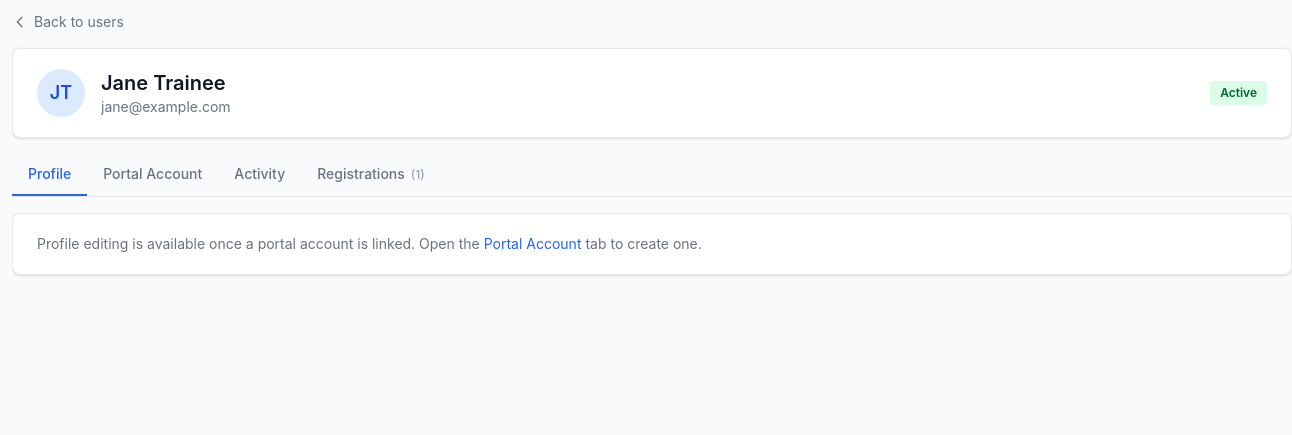
it: Trainings UserDetailPanel — 4-tab shell › when there is no portal account: Profile shows a prompt linking to Portal Account tab, and Portal tab shows the "Create portal account" notice
The width and height of the screenshot is (1292, 435).
Check: the heading "Jane Trainee" is shown, box x1=101 y1=69 x2=231 y2=97
Check: the text "Profile editing is available once a portal account is linked" is shown, box x1=37 y1=235 x2=480 y2=252
Click the 1st button "Portal Account" at (153, 175), box x1=87 y1=154 x2=218 y2=196
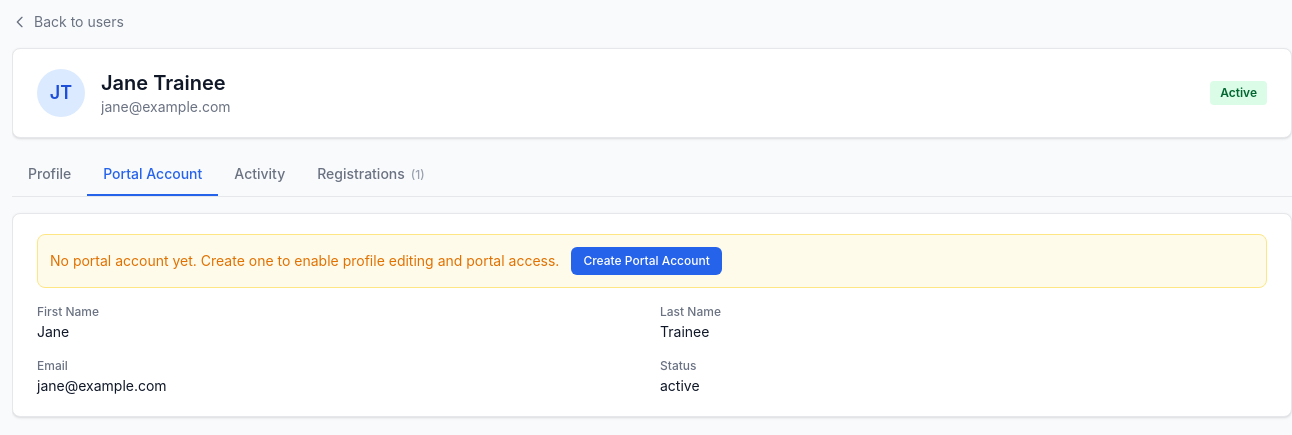
Check: the button "Create Portal Account" is shown, box x1=571 y1=247 x2=722 y2=275
Click the button "Activity" at (260, 175), box x1=218 y1=154 x2=301 y2=196
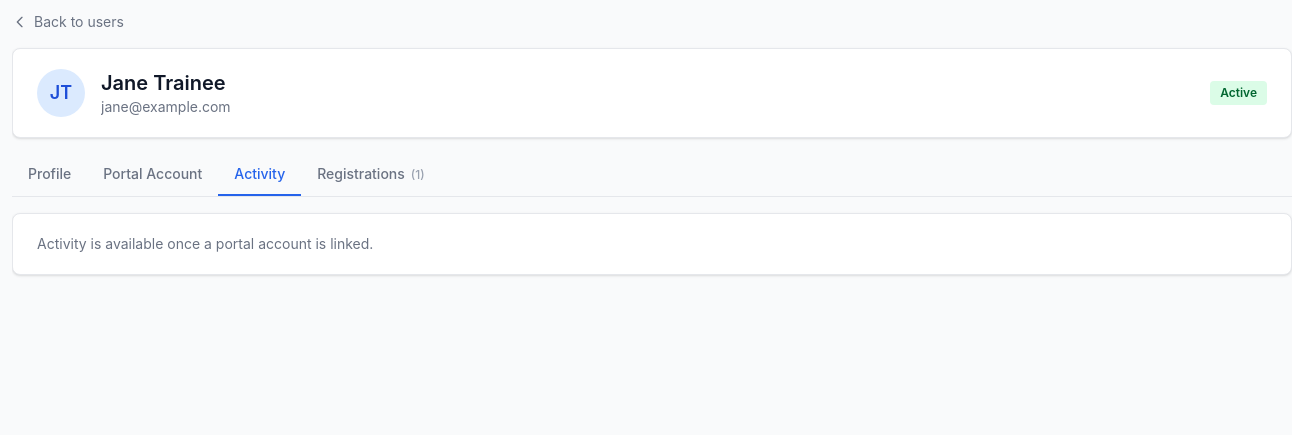
Check: the text "Activity is available once a portal account is linked." is shown, box x1=37 y1=235 x2=373 y2=252
